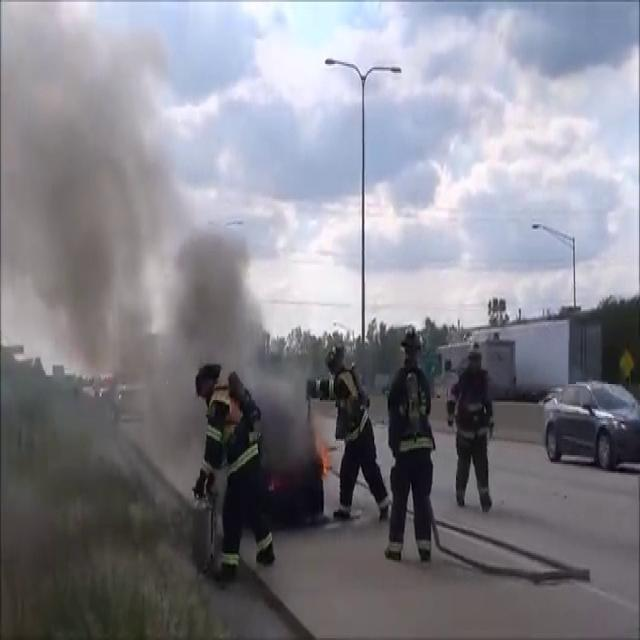Smoke: (2, 2, 307, 487)
